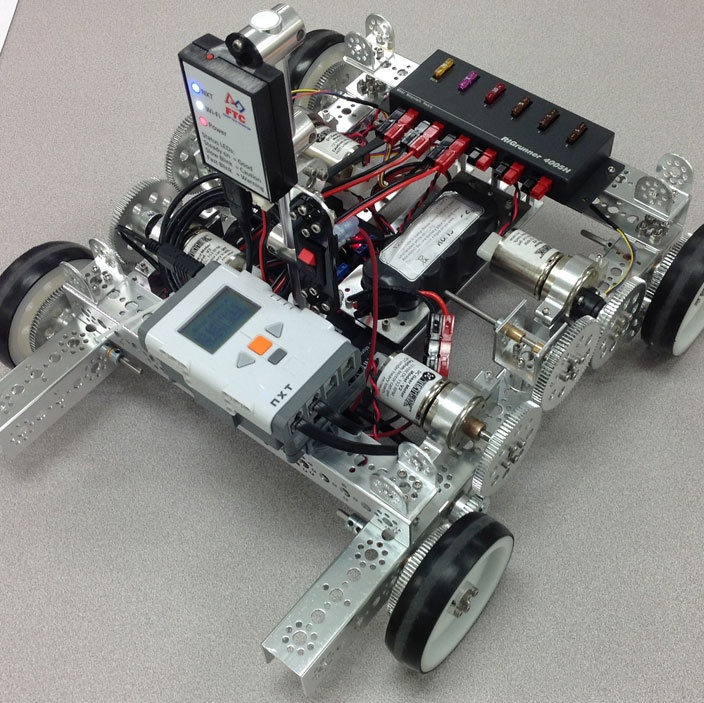robot: (3, 3, 700, 700)
